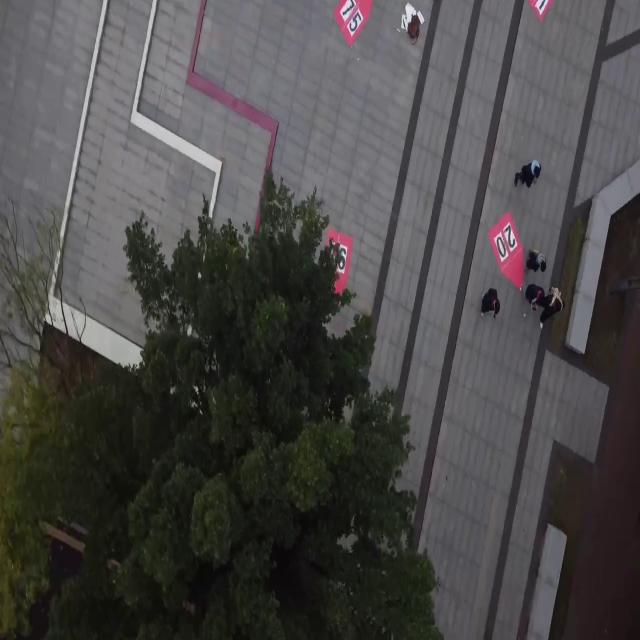-sign-: (488, 209, 524, 290), (334, 0, 372, 46), (327, 228, 352, 294), (527, 1, 556, 22)
